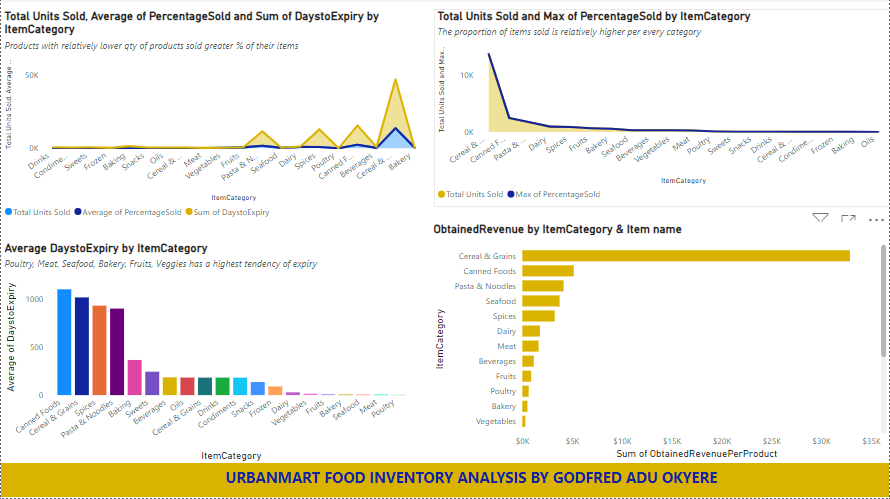

Layout of this report page (visuals, bound fields, positions):
{"tool":"powerbi","page":{"name":"Page 2","canvas":[1280,720],"ordinal":1},"visuals":[{"type":"stackedAreaChart","fields":{"Category":["CleanData.ItemCategory"],"Y":["CleanData.Total Units Sold","Avg(CleanData.PercentageSold)","Sum(CleanData.DaystoExpiry)"]},"box":[0,15.4,611.5,309.6],"z":0},{"type":"lineStackedColumnComboChart","title":"Average DaystoExpiry by ItemCategory","fields":{"Series":["CleanData.ItemCategory"],"Category":["CleanData.ItemCategory"],"Y":["Avg(CleanData.DaystoExpiry)"]},"box":[0,349.7,597.6,321.9],"z":1000},{"type":"shape","box":[0,670,1280,49.3],"z":2000},{"type":"textbox","box":[318.8,671.6,777.9,47.7],"z":3000},{"type":"stackedAreaChart","fields":{"Category":["CleanData.ItemCategory"],"Y":["CleanData.Total Units Sold","Max(CleanData.PercentageSold)"]},"box":[623.5,15.8,656.6,285.1],"z":4000},{"type":"barChart","title":" ObtainedRevenue by ItemCategory &  Item name","fields":{"Y":["Sum(CleanData.ObtainedRevenuePerProduct)"],"Category":["CleanData.ItemCategory","CleanData.ItemName"]},"box":[617.8,322.6,662.4,347],"z":5000}]}

Visuals, with their boxes in screenshot pixels (x1, y1, x2, y2), scaled from the page's 1280x720 canvas onto the 890x499 screenshot:
stackedAreaChart - CleanData.ItemCategory x CleanData.Total Units Sold: <bbox>0, 11, 425, 225</bbox>
"Average DaystoExpiry by ItemCategory" lineStackedColumnComboChart: <bbox>0, 242, 416, 465</bbox>
shape: <bbox>0, 464, 889, 498</bbox>
textbox: <bbox>222, 465, 763, 498</bbox>
stackedAreaChart - CleanData.ItemCategory x CleanData.Total Units Sold: <bbox>434, 11, 889, 209</bbox>
" ObtainedRevenue by ItemCategory &  Item name" barChart: <bbox>430, 224, 889, 464</bbox>
